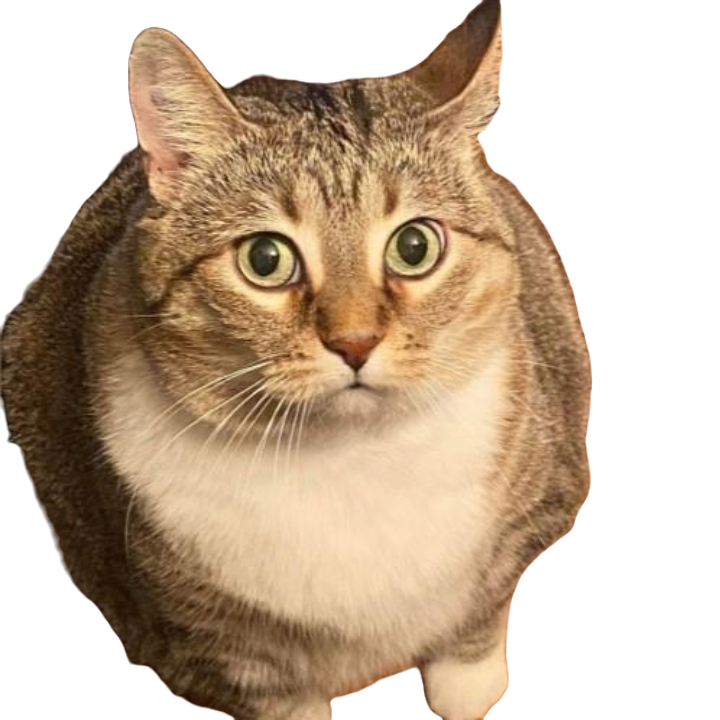Cat: (0, 0, 596, 719)
